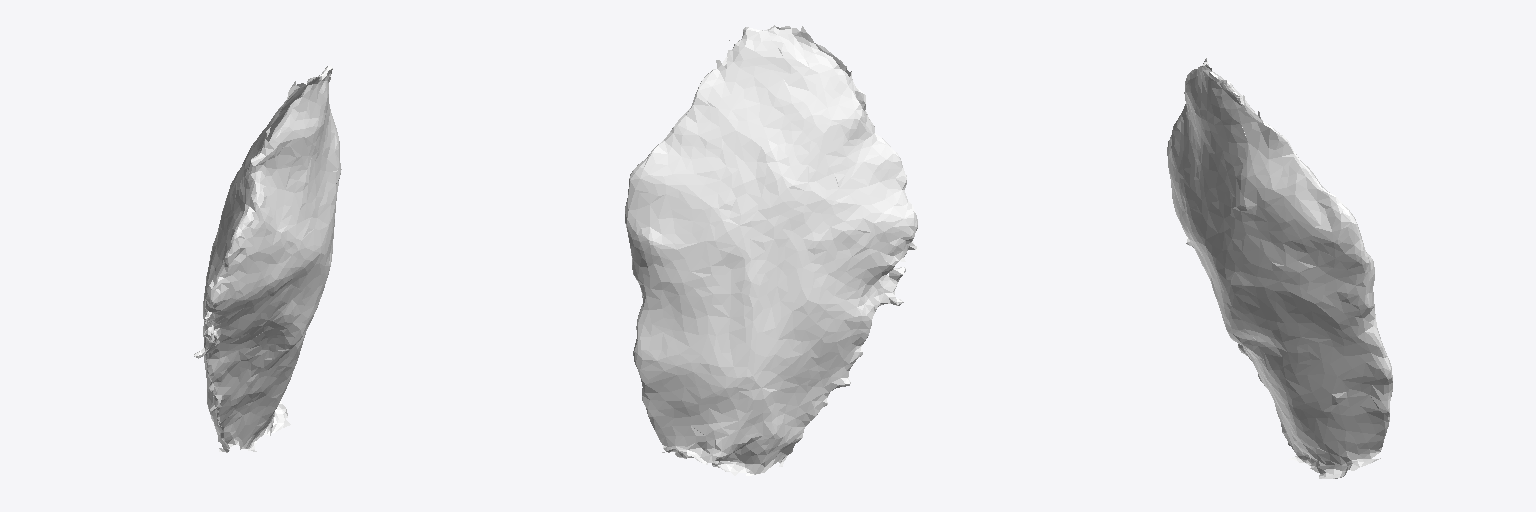
The model's file is pc490real.obj.
3 views of the same model, side by side, from view 1: azimuth 30°, elevation 25°; view 2: azimuth 150°, elevation 25°; view 3: azimuth 270°, elevation 25° (orthographic).
Parts seen in each view (by area): view 1: pc490; view 2: pc490; view 3: pc490.
Boxes of the visible parts, x1=… form: pc490: x1=194, y1=66, x2=341, y2=452; pc490: x1=625, y1=25, x2=918, y2=475; pc490: x1=1167, y1=58, x2=1392, y2=478.
Size of the model in its own units: 0.3748 by 0.7065 by 0.3581.